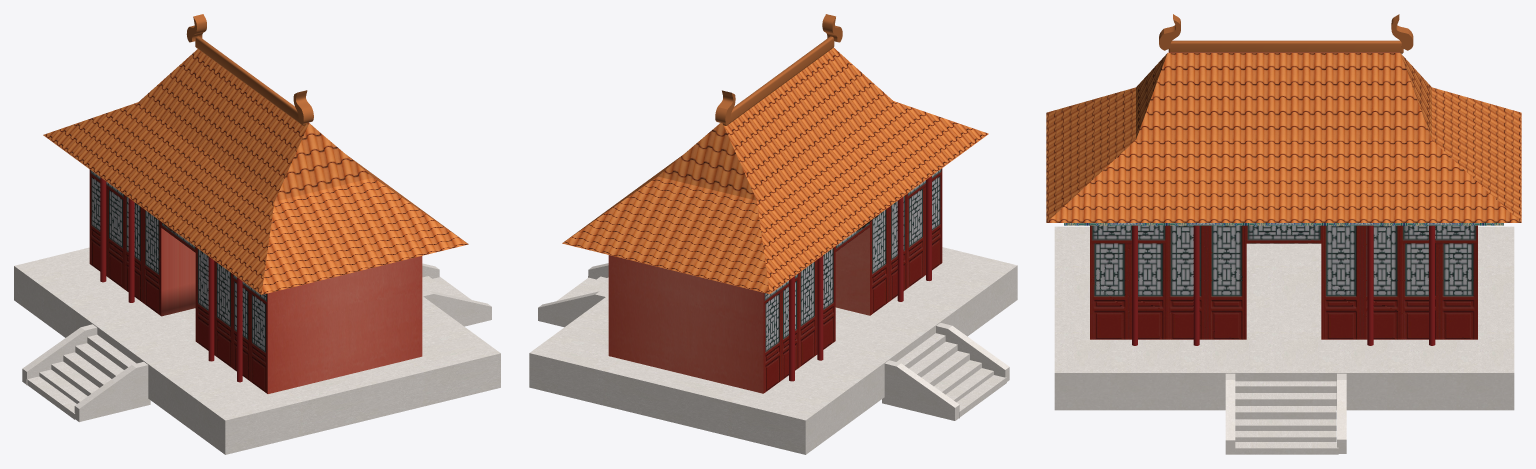
File: shejitan.FBX
3 renders of one model, left to right at view 1: azimuth 30°, elevation 25°; view 2: azimuth 150°, elevation 25°; view 3: azimuth 270°, elevation 25°, orthographic. The views are drawn at different scales.
Visible parts, largest first — view 1: 12687; view 2: 12687; view 3: 12687.
Part boxes in pixels (x1,y1,x2,y2): 12687: (14,14,500,454); 12687: (529,14,1017,454); 12687: (1046,14,1521,454).
Bounding box in the file's own units: 241 × 165 × 219.
Materials: 9 (7 with a texture image).
